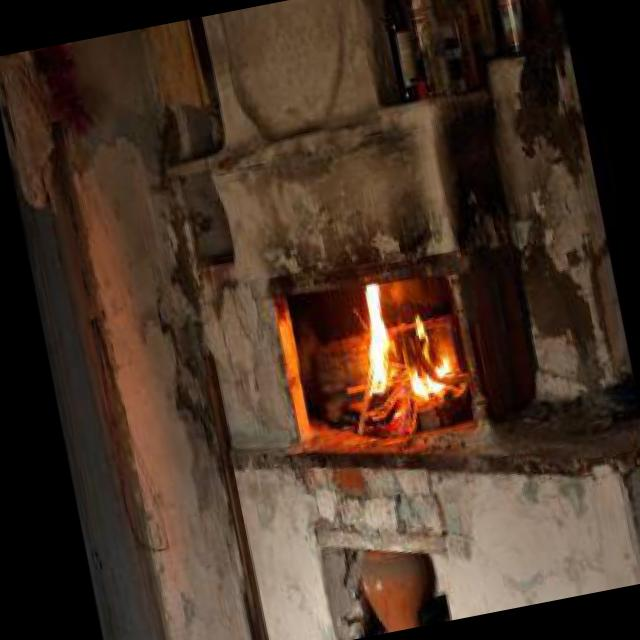fire: (330, 258, 462, 422)
